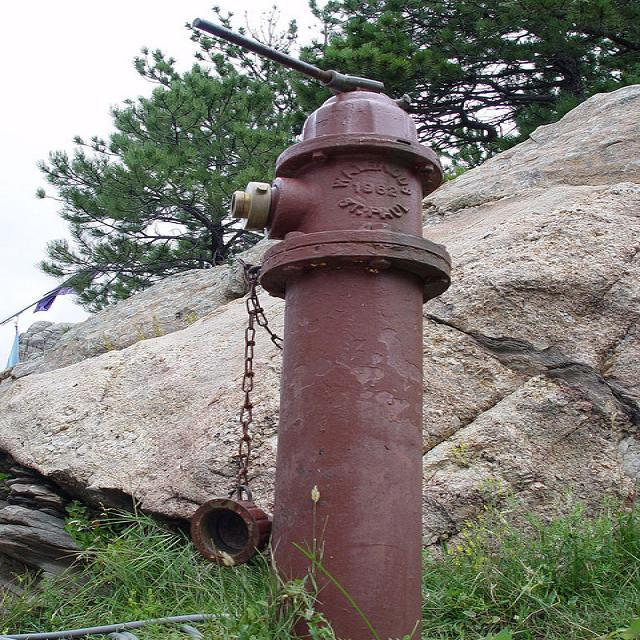fire_hydrant: (190, 18, 453, 629)
